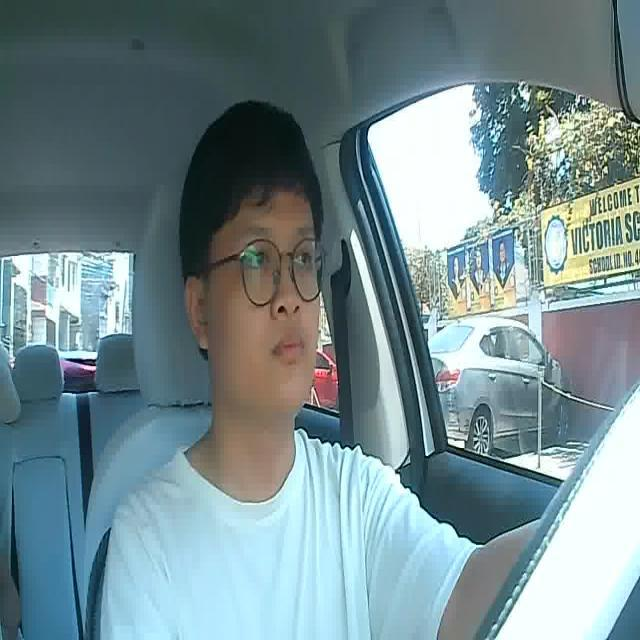Attentive: (187, 97, 329, 412)
Eye-Open: (247, 244, 274, 272), (290, 245, 316, 274)
Normal: (272, 331, 311, 362)
